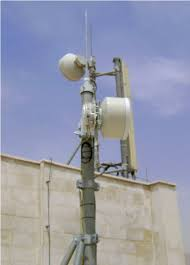ba: (88, 80, 137, 142), (52, 45, 91, 91)
